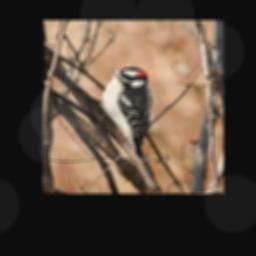Woodpecker: (98, 67, 152, 161)
